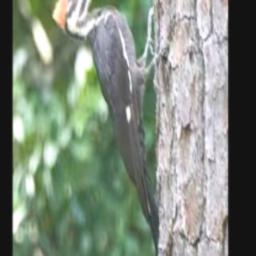Woodpecker: (51, 0, 161, 256)
